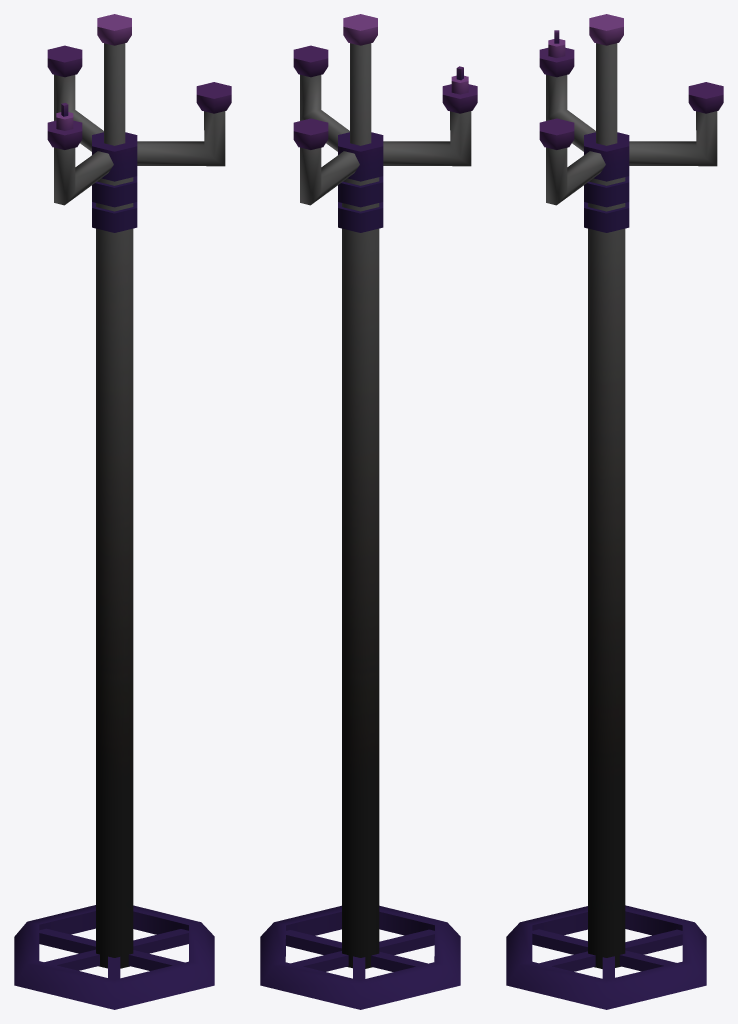
Rendered from Candle_Stand_02.fbx.
3 renders of one model, left to right at view 1: azimuth 30°, elevation 25°; view 2: azimuth 150°, elevation 25°; view 3: azimuth 270°, elevation 25°, orthographic.
Visible parts, largest first — view 1: Candle_Stand_02с; view 2: Candle_Stand_02с; view 3: Candle_Stand_02с.
Boxes of the visible parts, x1,y1,x2,y2 form: Candle_Stand_02с: [14, 14, 231, 1009]; Candle_Stand_02с: [260, 14, 477, 1009]; Candle_Stand_02с: [506, 14, 723, 1009].
Bounding box in the file's own units: 40.76 × 182 × 38.25.
